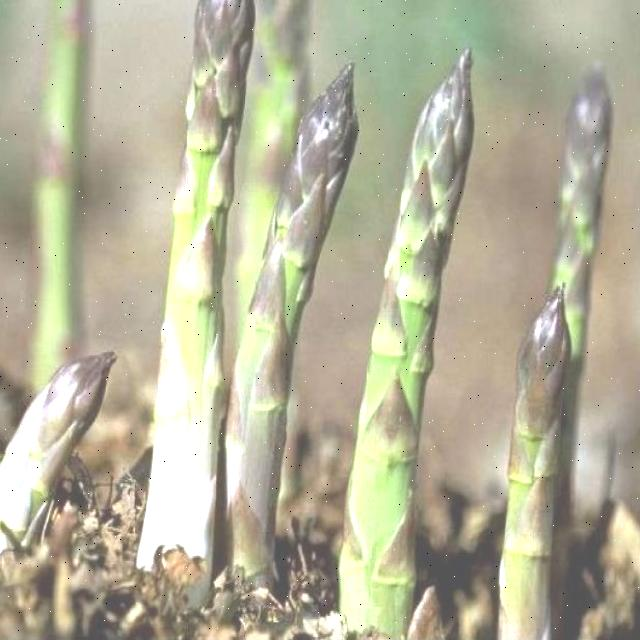aspargus: (338, 47, 477, 640)
